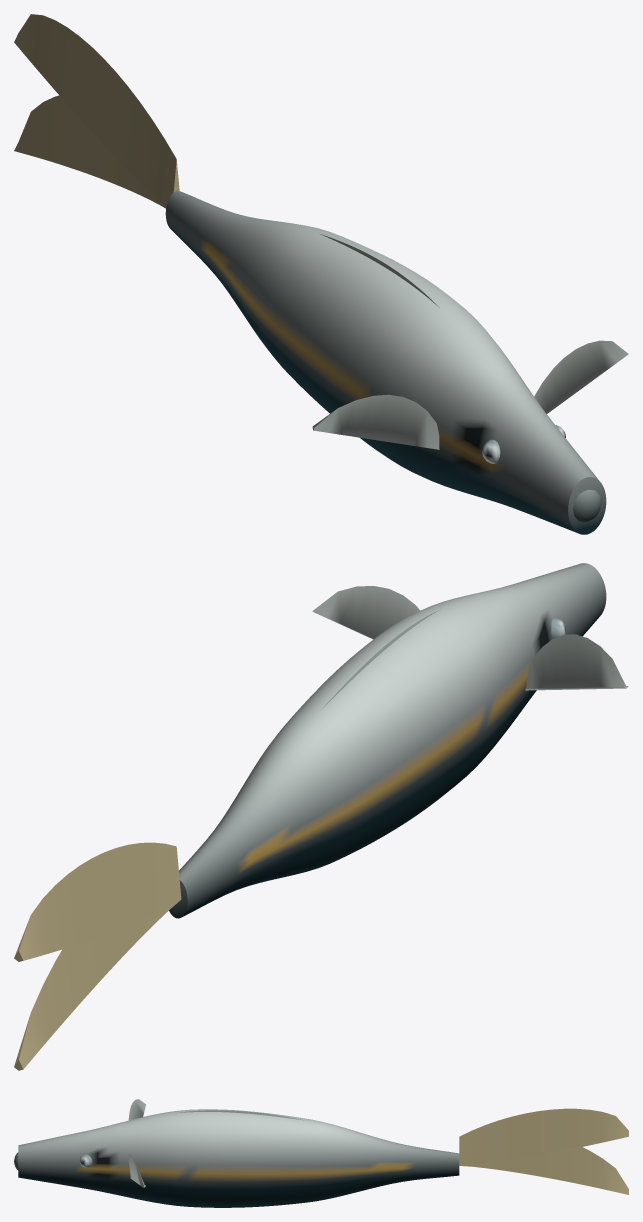
The model's file is silver_fish.glb.
3 renders of one model, top to bottom at view 1: azimuth 30°, elevation 25°; view 2: azimuth 150°, elevation 25°; view 3: azimuth 270°, elevation 25°, orthographic. The views are drawn at different scales.
Parts seen in each view (by area): view 1: Pelagic.silver_fish.Surface; view 2: Pelagic.silver_fish.Surface; view 3: Pelagic.silver_fish.Surface.
Boxes of the visible parts, box(x1,y1,x2,y2) form: Pelagic.silver_fish.Surface: box(14, 14, 628, 534); Pelagic.silver_fish.Surface: box(14, 563, 628, 1070); Pelagic.silver_fish.Surface: box(14, 1099, 628, 1207).
Bounding box in the file's own units: 0.2298 × 0.1258 × 0.7252.
